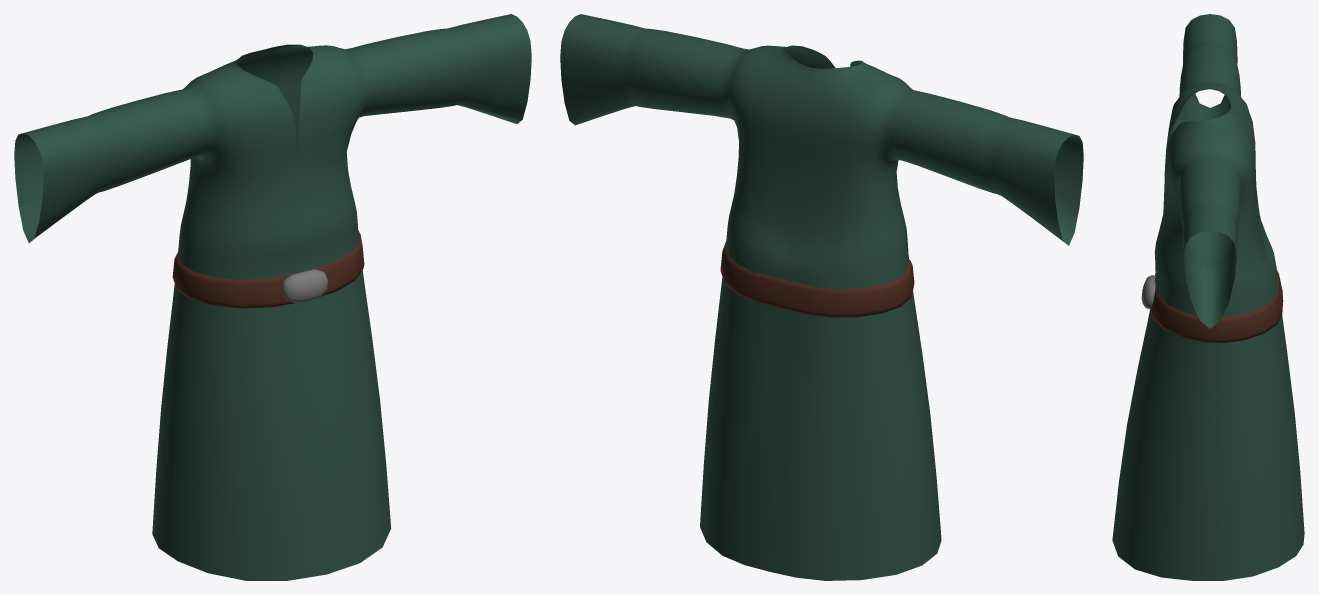
The model's file is wizard-1.glb.
The picture shows the model from 3 angles, left to right: view 1: azimuth 30°, elevation 25°; view 2: azimuth 150°, elevation 25°; view 3: azimuth 270°, elevation 25°; orthographic projection. The views are drawn at different scales.
Visible parts, largest first — view 1: robe; view 2: robe; view 3: robe.
Part boxes in pixels (x1,y1,x2,y2): robe: [14, 14, 531, 580]; robe: [560, 14, 1083, 580]; robe: [1112, 14, 1304, 580].
Size of the model in its own units: 2.56 by 2.41 by 0.9597.
